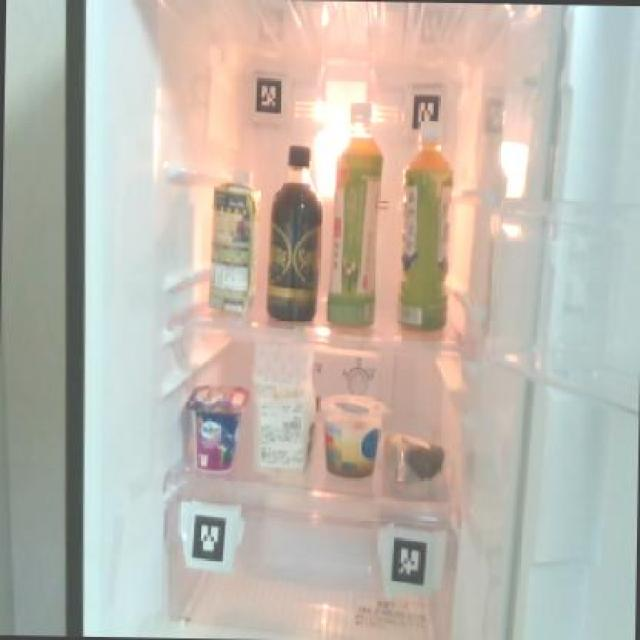coffee: (263, 139, 323, 324)
pudding: (313, 389, 385, 480)
rice_ball: (383, 426, 446, 492)
sandwich: (245, 334, 318, 478)
smoothie: (205, 163, 258, 312)
tea_a: (395, 129, 456, 329)
tea_i: (324, 98, 384, 327)
yogurt: (186, 379, 246, 472)
